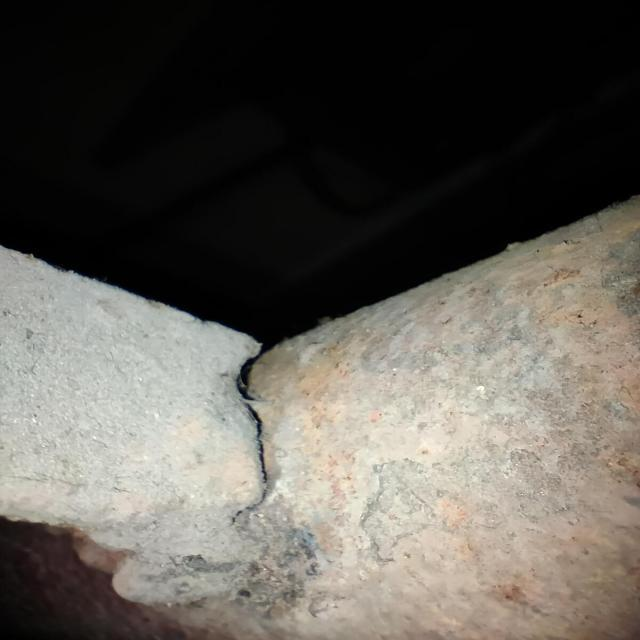Crack: (228, 340, 273, 526)
